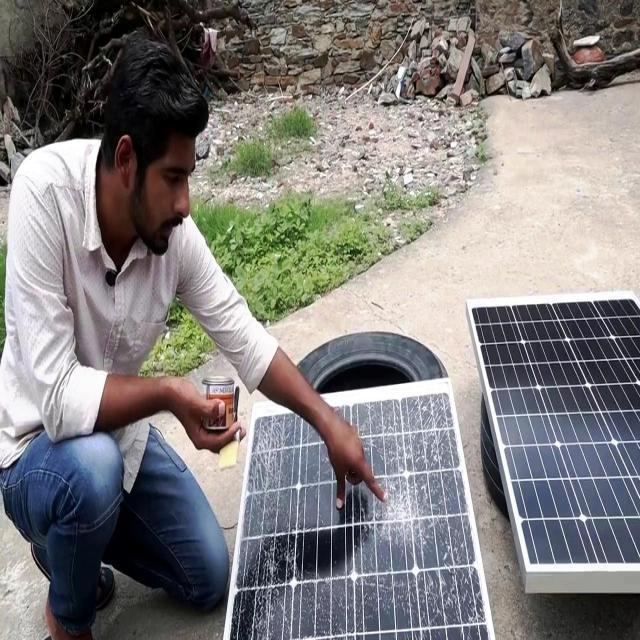faulty: (466, 284, 640, 575)
no faulty: (225, 388, 488, 639)
